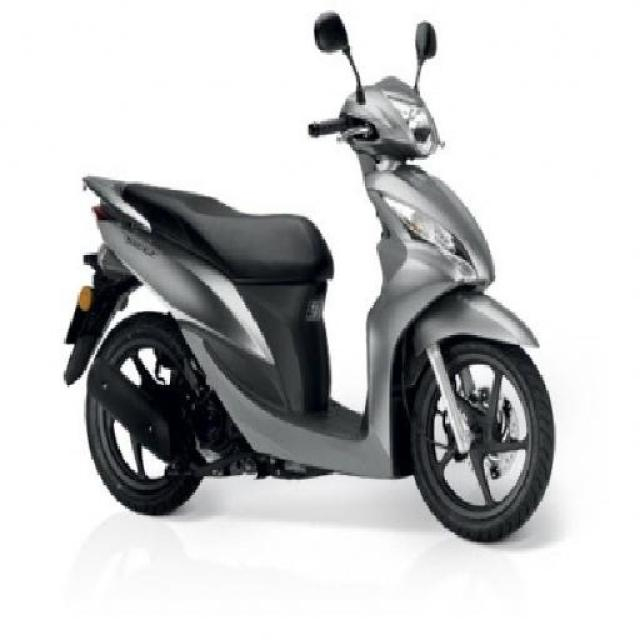All: (57, 67, 558, 545)
Head: (306, 74, 443, 163)
Tail: (74, 163, 146, 240)
